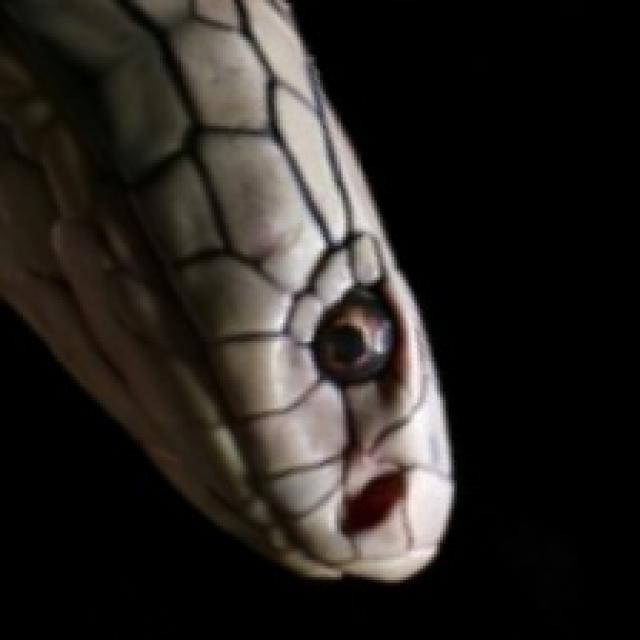king cobra: (0, 0, 451, 577)
